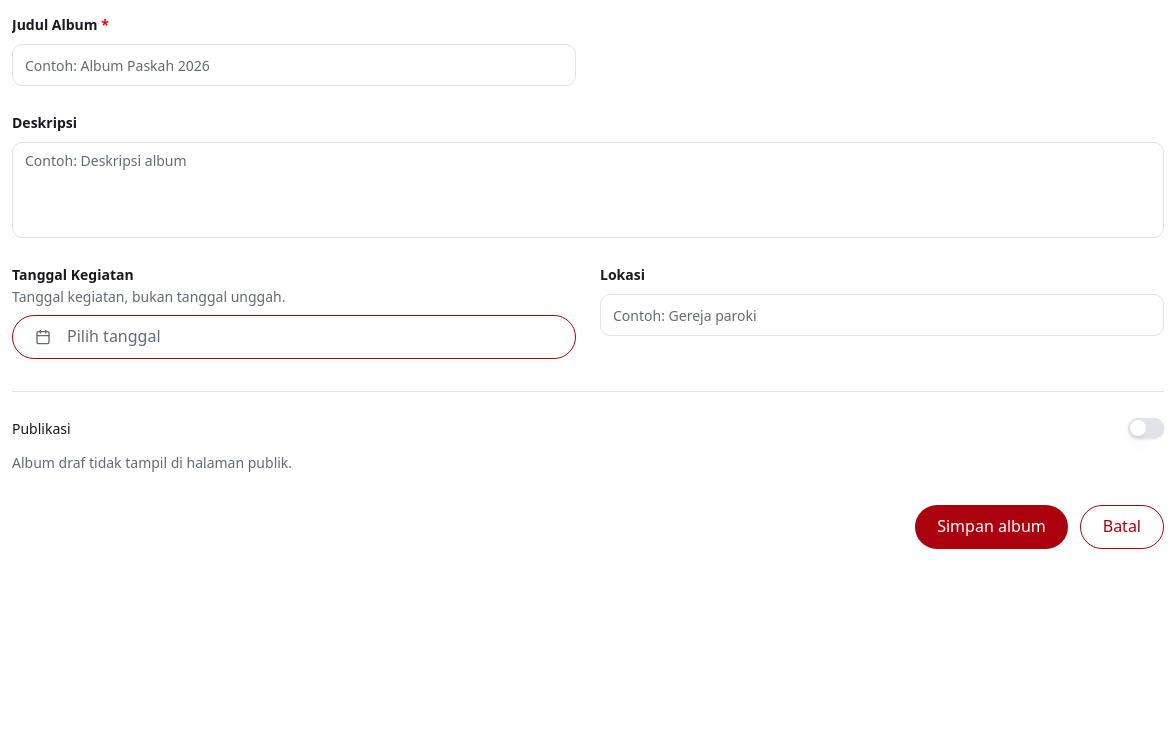
Test: GalleryForm › reports the error count for several rejected fields at once
Step 1. Click the button "Simpan album" → x=991, y=527, box [915,505,1068,549]
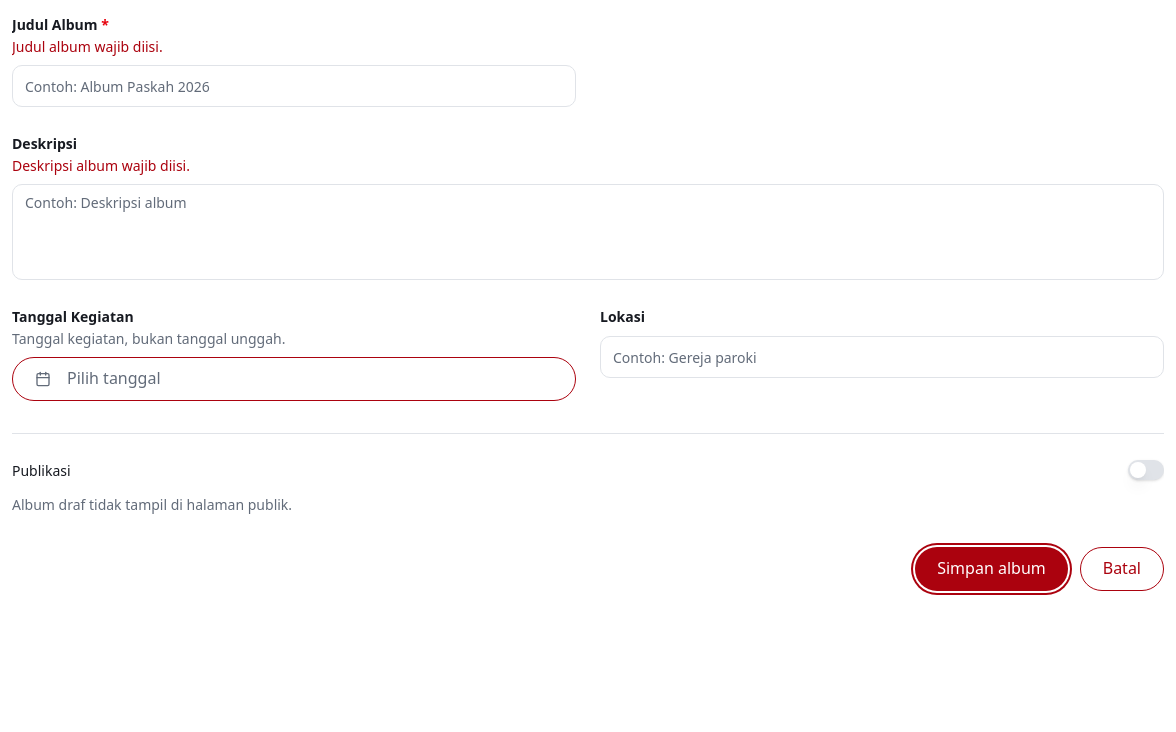
Now the text "Judul album wajib diisi." is shown, box [12,37,163,56]
Now the text "Deskripsi album wajib diisi." is shown, box [12,156,190,175]
